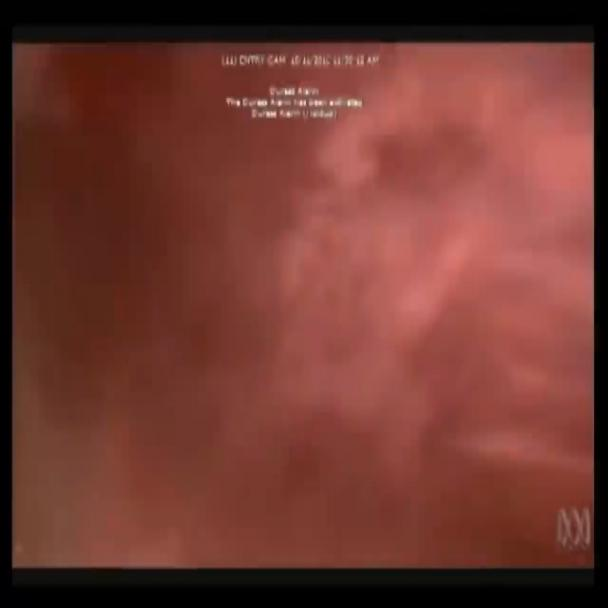Fire: (25, 42, 566, 523)
